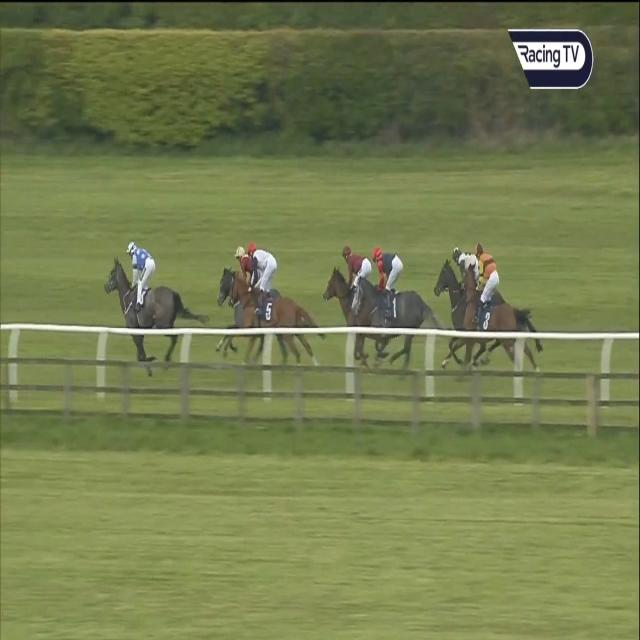horses-racing: (455, 240, 537, 384), (345, 241, 434, 371), (228, 238, 316, 364), (104, 242, 190, 354), (318, 238, 371, 380), (427, 230, 475, 379), (207, 240, 253, 330)
